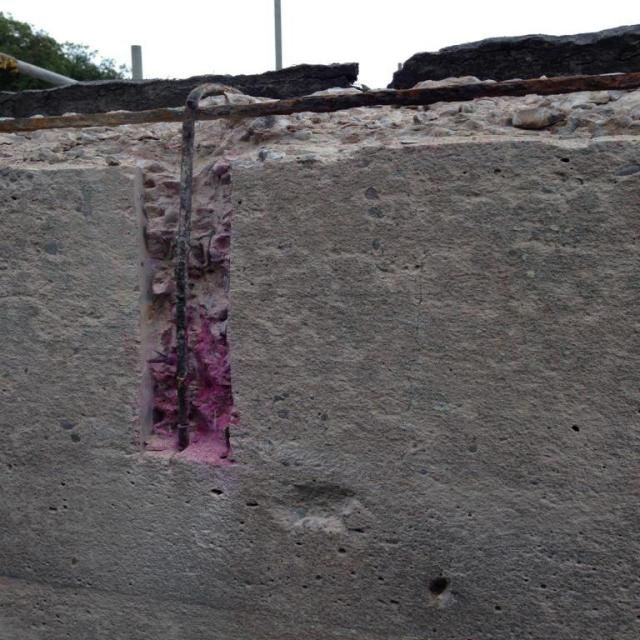spalling: (0, 68, 639, 464)
